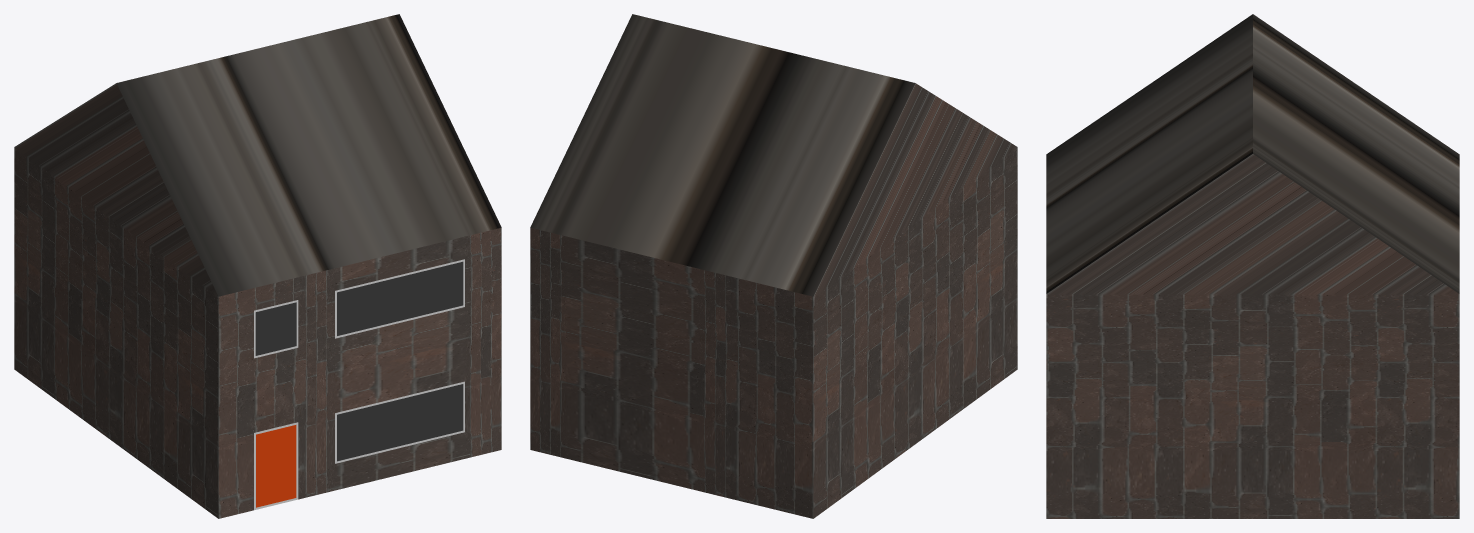
File: house_1.gltf
The picture shows the model from 3 angles, left to right: view 1: azimuth 30°, elevation 25°; view 2: azimuth 150°, elevation 25°; view 3: azimuth 270°, elevation 25°; orthographic projection.
Parts seen in each view (by area): view 1: Cube; view 2: Cube; view 3: Cube.
Part boxes in pixels (bbox=[...]): Cube: bbox=[14, 14, 501, 518]; Cube: bbox=[530, 14, 1017, 518]; Cube: bbox=[1046, 14, 1459, 518].
Bounding box in the file's own units: 8 × 9.75 × 10.
5 materials, 2 textured.
